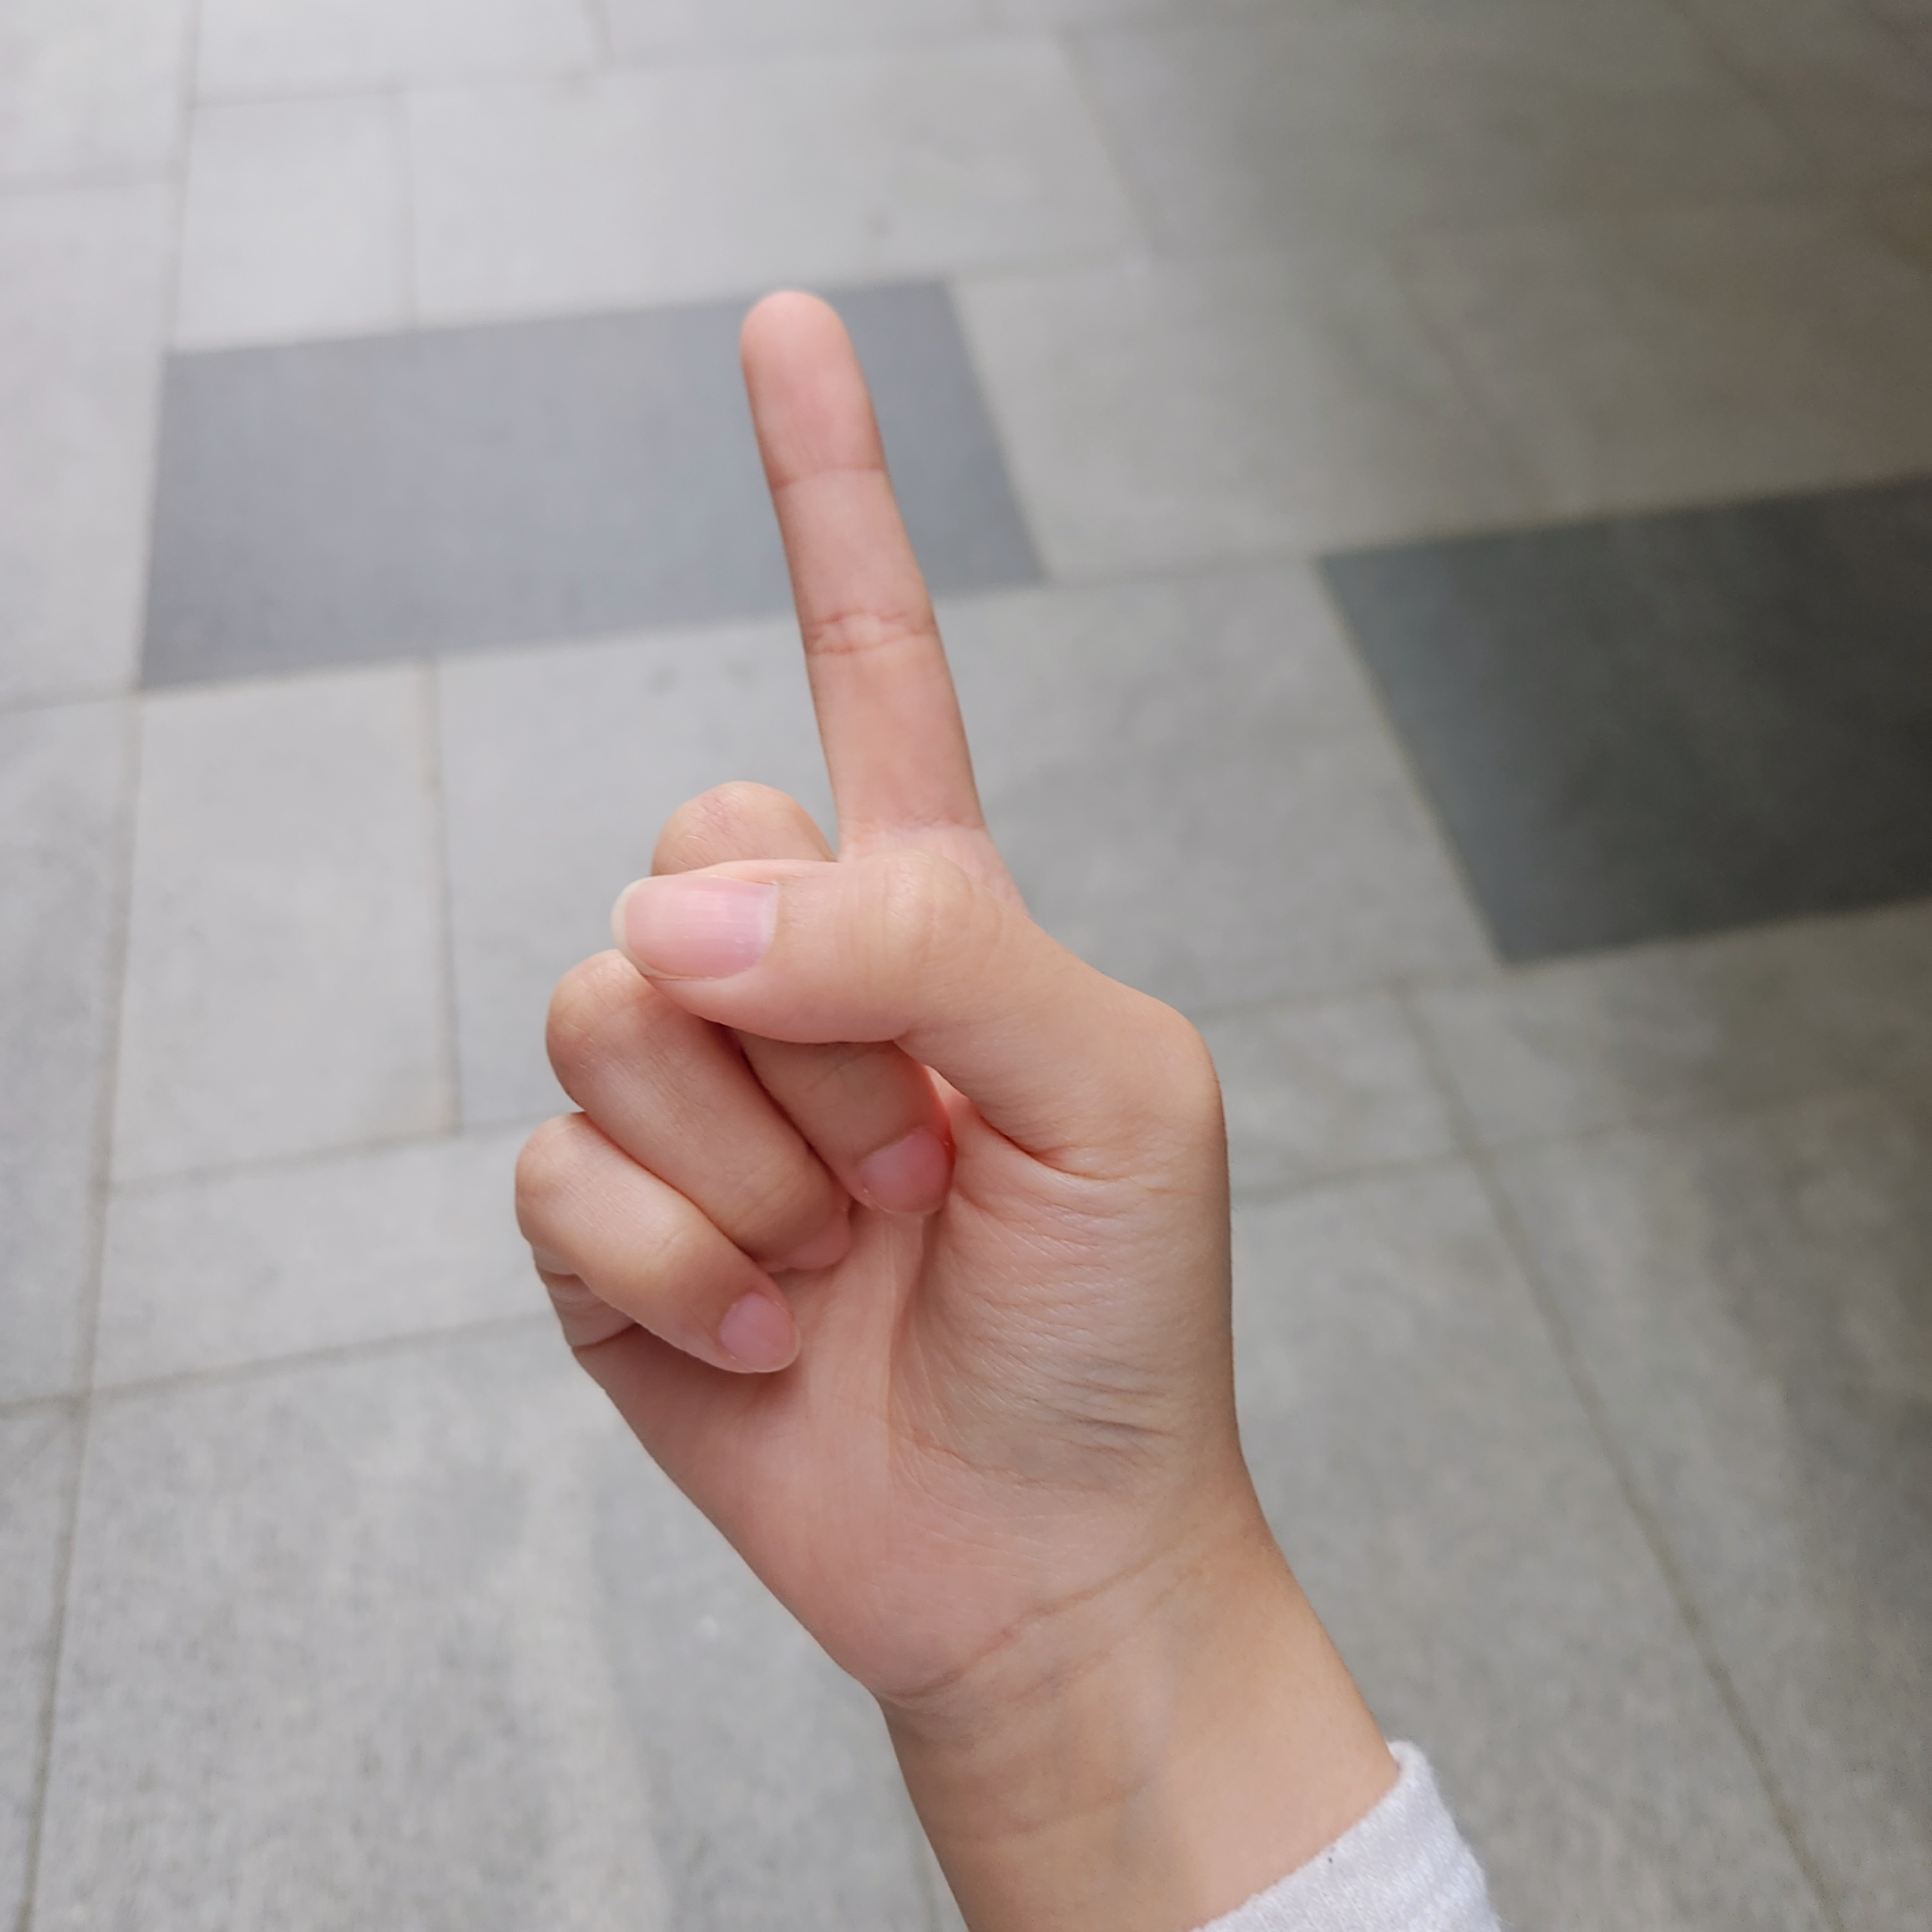what: (501, 278, 1246, 1702)
